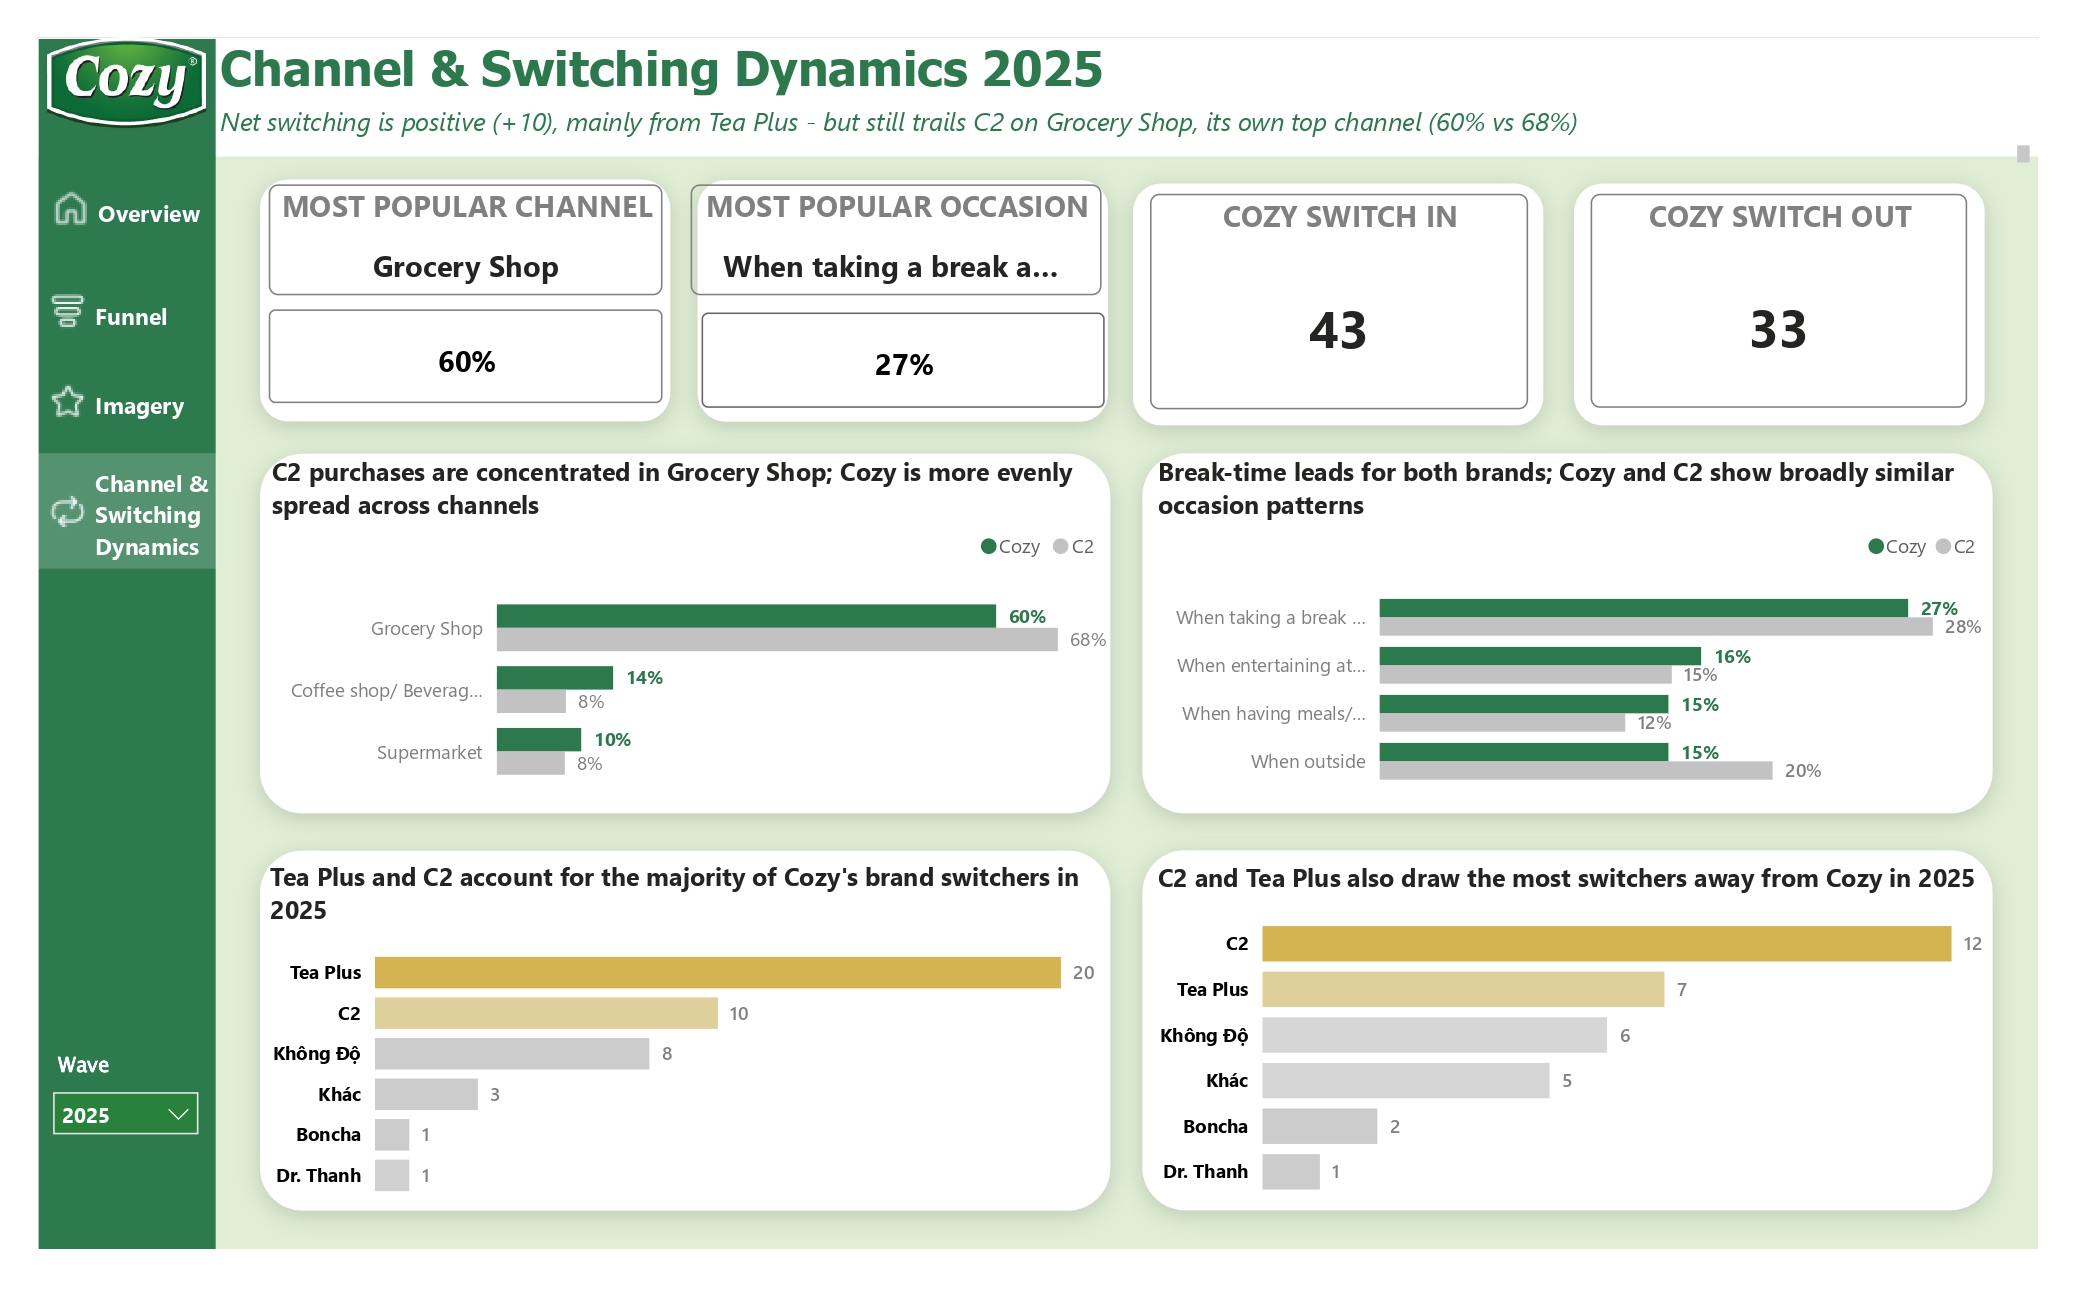

What the dashboard file says about the page in this screenshot:
{"tool":"powerbi","page":{"name":"Channel & Switching Dynamics","canvas":[1280,780],"ordinal":3},"visuals":[{"type":"cardVisual","title":"COZY SWITCH IN","fields":{"Data":["Channel.Cozy Switch In"]},"box":[712.1,100,241.5,138],"z":0},{"type":"group","id":"g1","title":"Group 1","box":[148.5,93.9,251.5,139.4],"z":1000},{"type":"group","id":"g2","title":"Group 1","box":[418.2,93.9,263.6,142.4],"z":2000},{"type":"cardVisual","title":"MOST POPULAR CHANNEL","fields":{"Data":["Fact Purchased Channel.Most Popular Channel Name"]},"box":[148.5,93.9,252.4,70.6],"z":3000,"group":"g1"},{"type":"cardVisual","title":"MOST POPULAR OCCASION","fields":{"Data":["Fact Occasion.Most Popular Occasion Name"]},"box":[418.2,93.9,262.5,71.5],"z":3000,"group":"g2"},{"type":"cardVisual","title":"COZY SWITCH OUT","fields":{"Data":["Channel.Cozy Switch Out"]},"box":[993.9,100,241.5,136.5],"z":3000},{"type":"cardVisual","fields":{"Data":["Fact Purchased Channel.Most Popular Channel Value"]},"box":[148.5,173.6,252.4,59.9],"z":4000,"group":"g1"},{"type":"cardVisual","fields":{"Data":["Fact Occasion.Most Popular Occasion Value"]},"box":[425,176.3,258.1,61.1],"z":4000,"group":"g2"},{"type":"slicer","fields":{"Values":["Dim_Respondent.Wave"]},"box":[0,642.4,113.3,73.3],"z":4000},{"type":"clusteredBarChart","title":"C2 purchases are concentrated in Grocery Shop; Cozy is more evenly spread across channels","fields":{"Category":["Fact Purchased Channel.Purchased channel"],"Y":["Fact Purchased Channel.Cozy Channel Share","Fact Purchased Channel.Channel Index vs C2"]},"box":[145.5,266.7,544,222],"z":5000},{"type":"clusteredBarChart","fields":{"Category":["Fact Funnel.Previous_Master_Brand"],"Y":["Channel.Cozy Switch In"]},"box":[143.9,525.8,538,228],"z":6000},{"type":"clusteredBarChart","fields":{"Category":["Dim Master Brand.Master_Brand"],"Y":["Channel.Cozy Switch Out"]},"box":[712.1,527.3,538,228],"z":7000},{"type":"clusteredBarChart","title":"Break-time leads for both brands; Cozy and C2 show broadly similar occasion patterns","fields":{"Category":["Fact Occasion.Occasion"],"Y":["Fact Occasion.Cozy Occasion Share","Fact Occasion.C2 Occasion Share"]},"box":[712.1,266.7,537.9,221.2],"z":8000},{"type":"image","box":[0,0,112.5,60.4],"z":9000},{"type":"actionButton","title":"Button Home","box":[1.6,84.1,112.7,50.8],"z":10000},{"type":"actionButton","title":"Button Home","box":[0,151.6,112.7,47.6],"z":11000},{"type":"actionButton","title":"Button Home","box":[0,216,112.7,33.3],"z":12000},{"type":"actionButton","title":"Button Home","box":[0,266,116,74],"z":13000},{"type":"textbox","title":"Channel & Switching Dynamics 2025","box":[112.1,0,1168.2,84.8],"z":14000}]}

Visuals, with their boxes on the page's 1280x780 design canvas (x1, y1, x2, y2). These are canvas units, not pixel positions in the 2075x1294 screenshot, which may show the page scaled, cropped or inside an application window:
"COZY SWITCH IN" cardVisual: <region>712, 100, 954, 238</region>
"Group 1" group: <region>148, 94, 400, 233</region>
"Group 1" group: <region>418, 94, 682, 236</region>
"MOST POPULAR CHANNEL" cardVisual: <region>148, 94, 401, 164</region>
"MOST POPULAR OCCASION" cardVisual: <region>418, 94, 681, 165</region>
"COZY SWITCH OUT" cardVisual: <region>994, 100, 1235, 236</region>
cardVisual - Fact Purchased Channel.Most Popular Channel Value: <region>148, 174, 401, 234</region>
cardVisual - Fact Occasion.Most Popular Occasion Value: <region>425, 176, 683, 237</region>
slicer - Dim_Respondent.Wave: <region>0, 642, 113, 716</region>
"C2 purchases are concentrated in Grocery Shop; Cozy is more evenly spread across channels" clusteredBarChart: <region>146, 267, 690, 489</region>
clusteredBarChart - Fact Funnel.Previous_Master_Brand x Channel.Cozy Switch In: <region>144, 526, 682, 754</region>
clusteredBarChart - Dim Master Brand.Master_Brand x Channel.Cozy Switch Out: <region>712, 527, 1250, 755</region>
"Break-time leads for both brands; Cozy and C2 show broadly similar occasion patterns" clusteredBarChart: <region>712, 267, 1250, 488</region>
image: <region>0, 0, 112, 60</region>
"Button Home" actionButton: <region>2, 84, 114, 135</region>
"Button Home" actionButton: <region>0, 152, 113, 199</region>
"Button Home" actionButton: <region>0, 216, 113, 249</region>
"Button Home" actionButton: <region>0, 266, 116, 340</region>
"Channel & Switching Dynamics 2025" textbox: <region>112, 0, 1280, 85</region>
